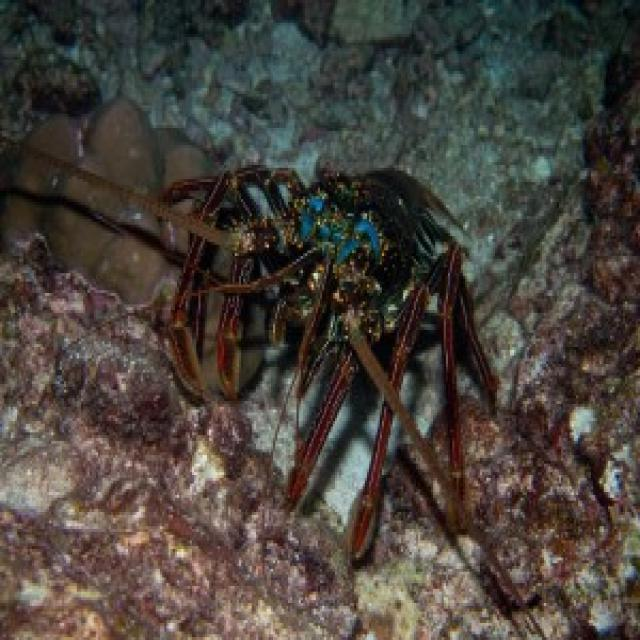lobsters: (128, 111, 564, 564)
